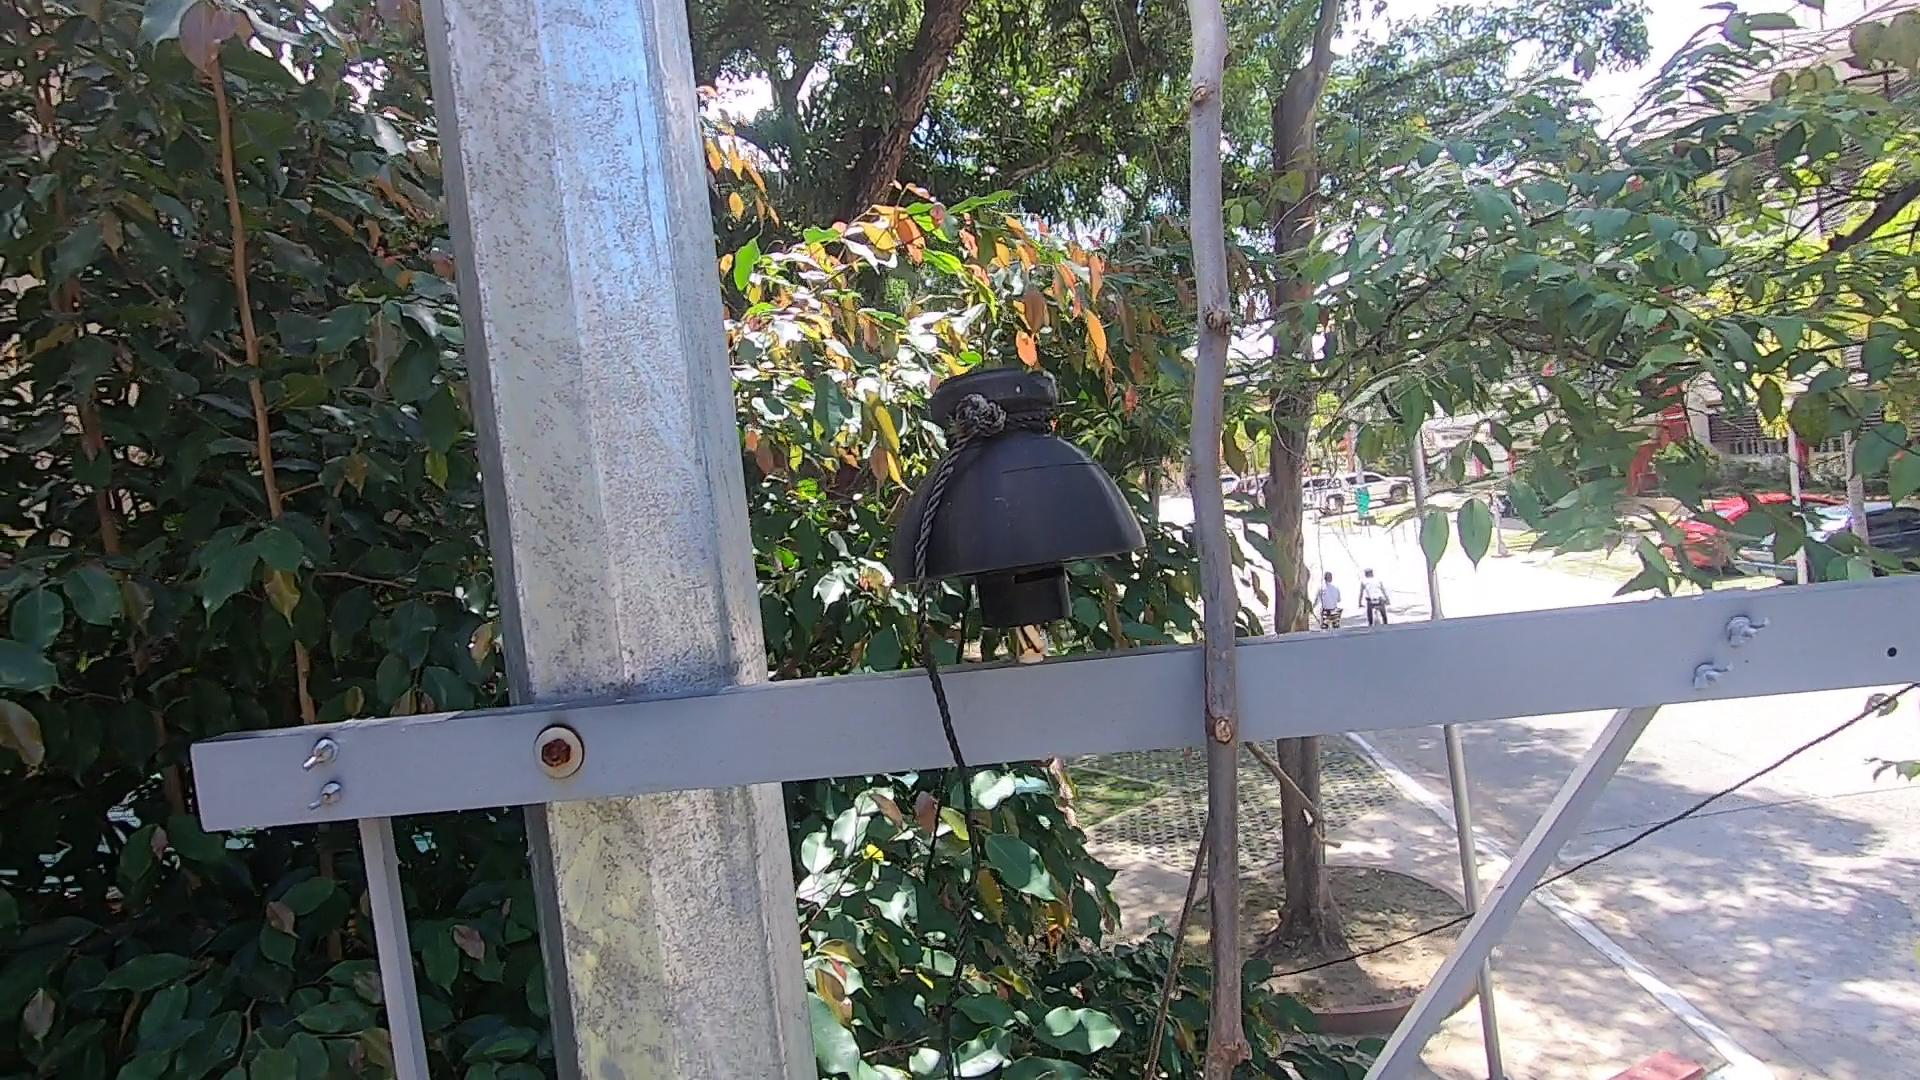tree branch: (1095, 3, 1375, 1077)
